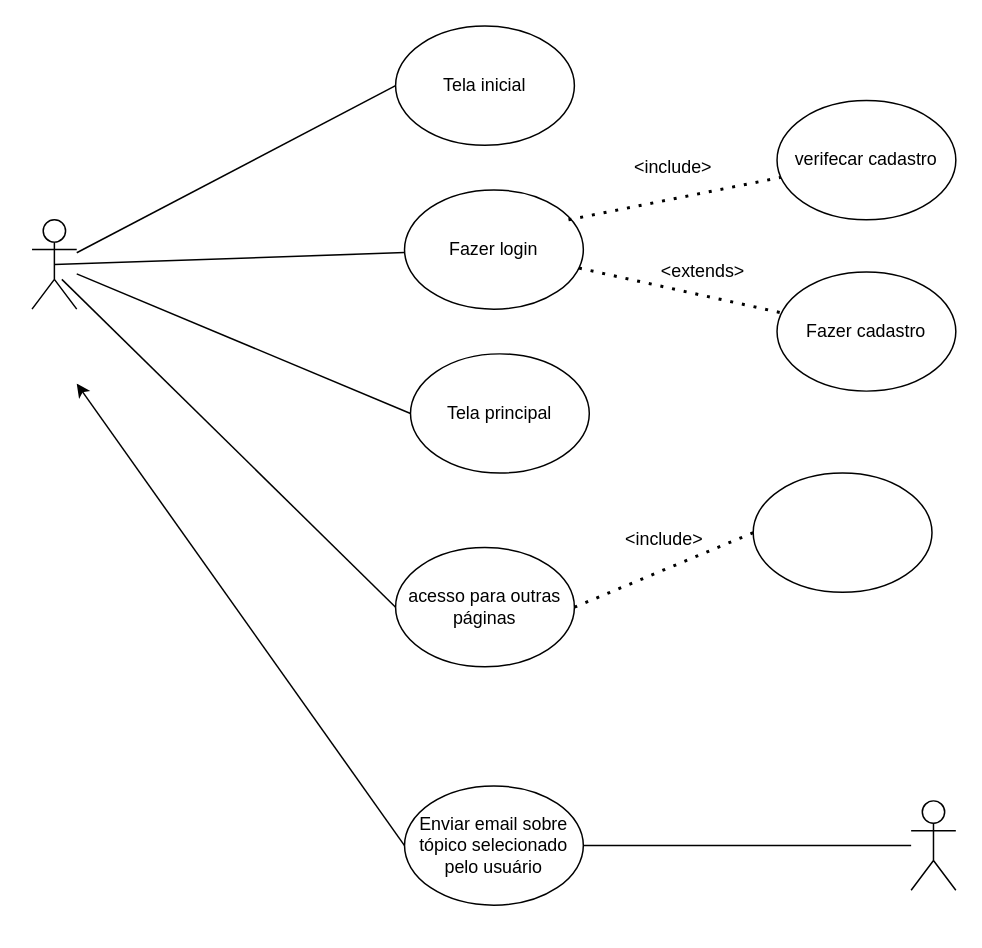
Image size: 982x948. Some labels were removed from this diagram. Each missing label, with the box of its shape:
autor: (910, 799, 956, 890)
usuário: (31, 218, 77, 309)
Verificação de login: (752, 472, 932, 592)
